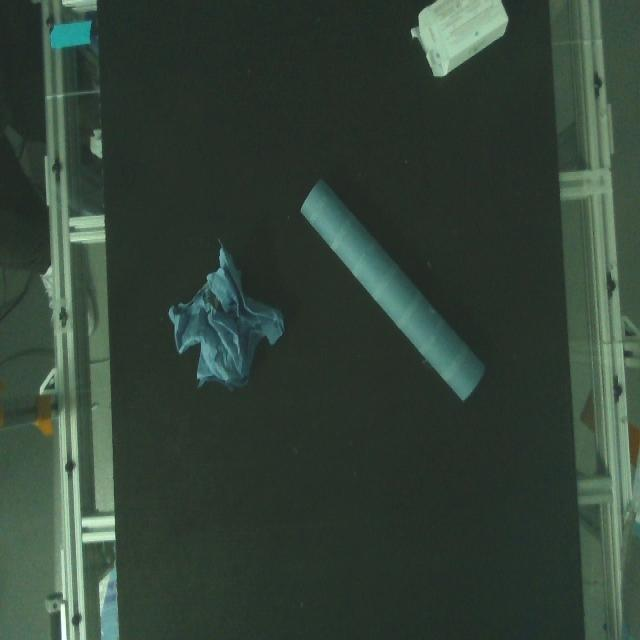paper: (300, 174, 488, 404), (157, 233, 292, 402), (413, 0, 511, 81)
